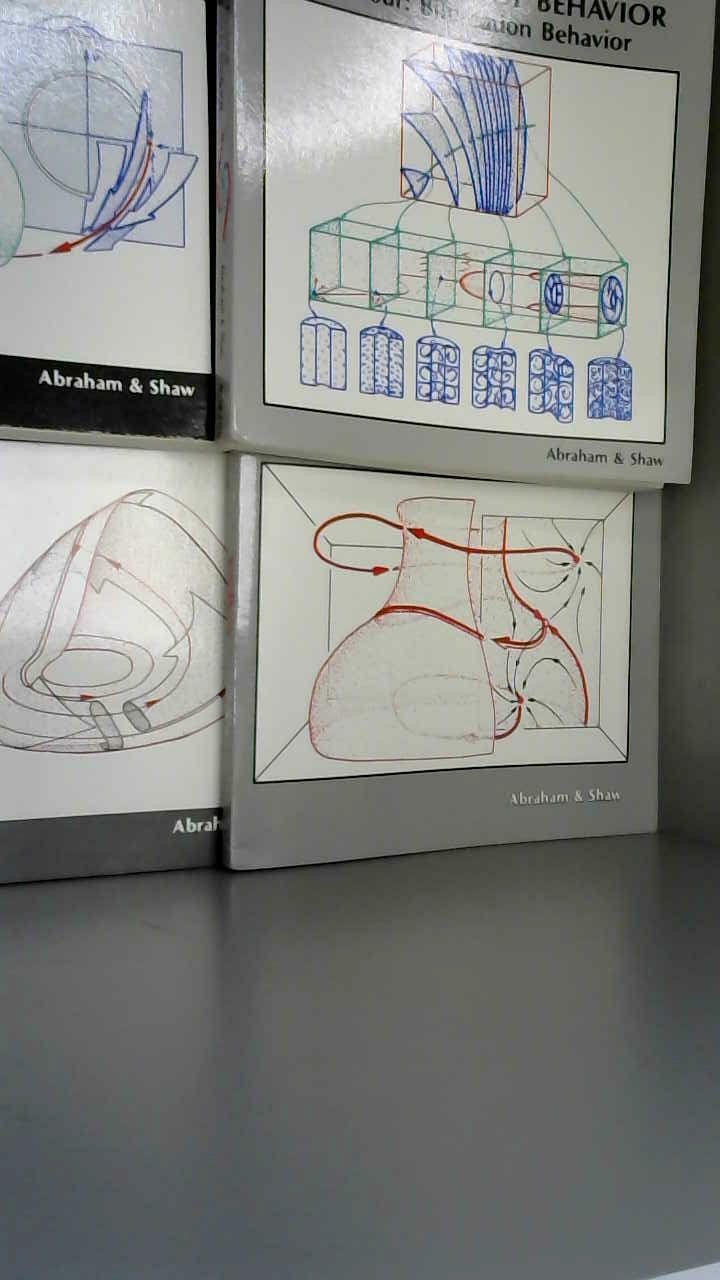book: (80, 0, 720, 888)
